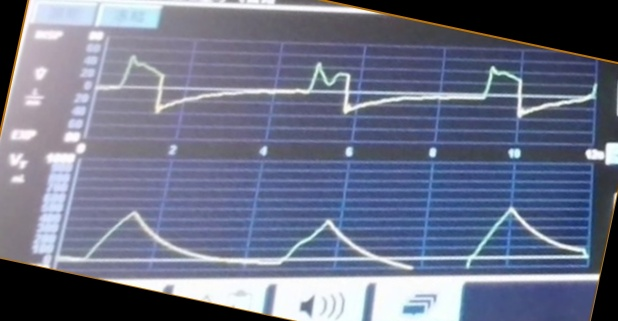Double_Triggering Flow: (104, 53, 570, 142)
Double_Triggering Volume: (70, 200, 568, 270)
